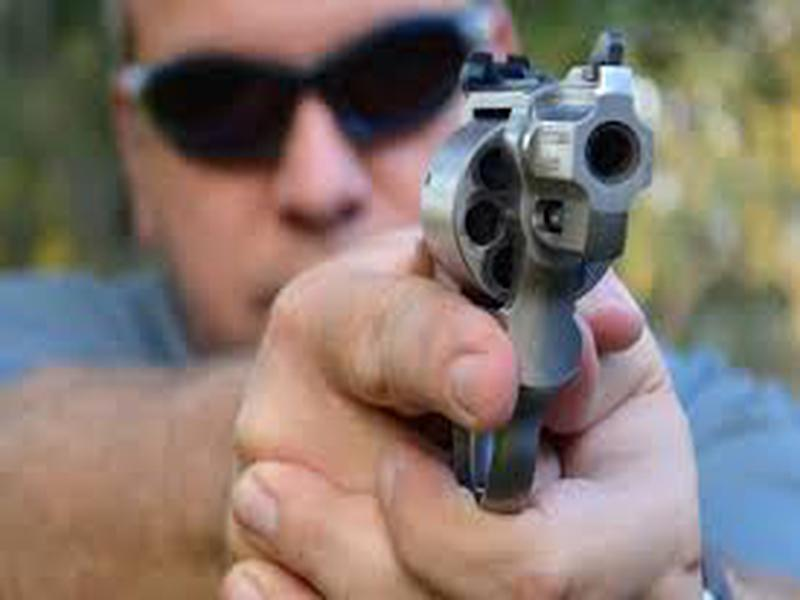Revolver: (409, 24, 657, 519)
